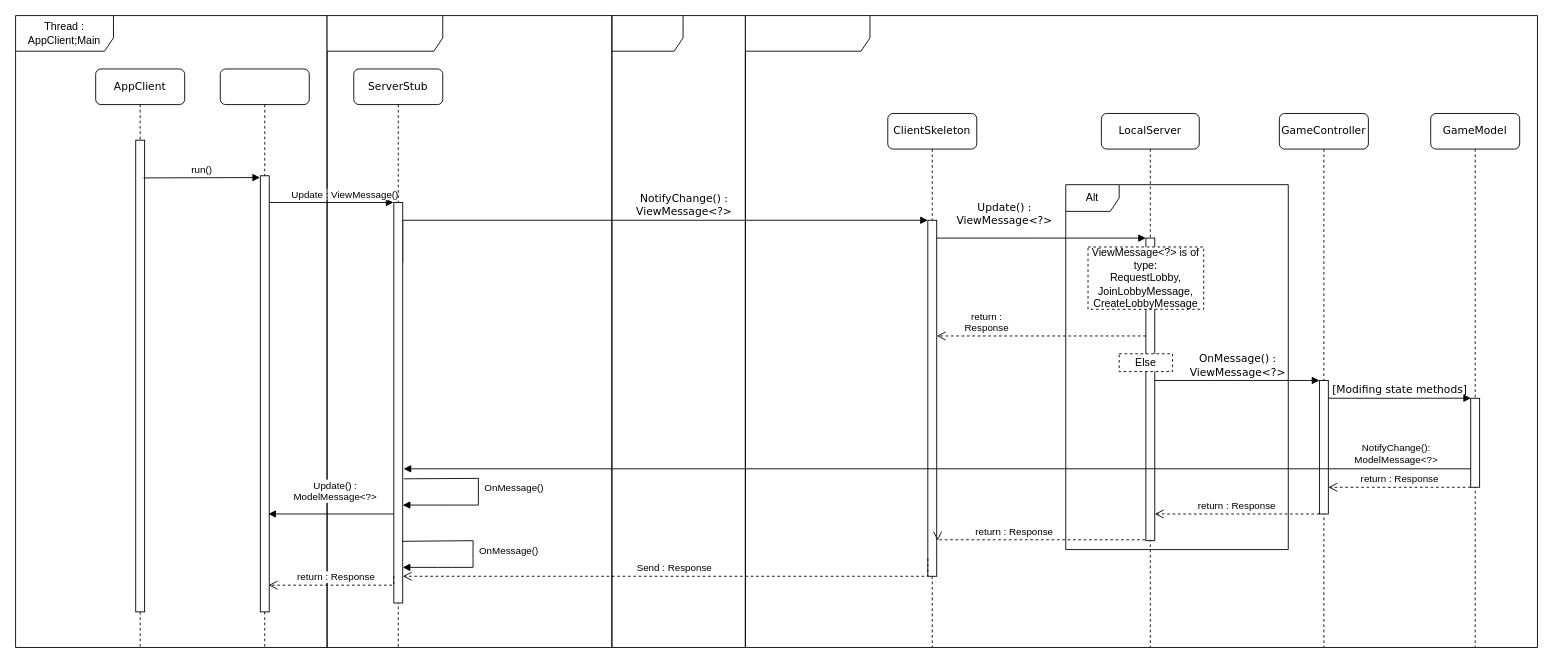
This 1553x663 diagram has some shape labels left out. The box of each missing label's shape, as (x1, y1, x2, y2) in pixels:
NETWORK: (611, 15, 745, 647)
Thread : AppClient;Receive: (326, 15, 612, 647)
Thread : AppServer;Receive: (744, 15, 1537, 647)
View: (219, 68, 309, 647)
